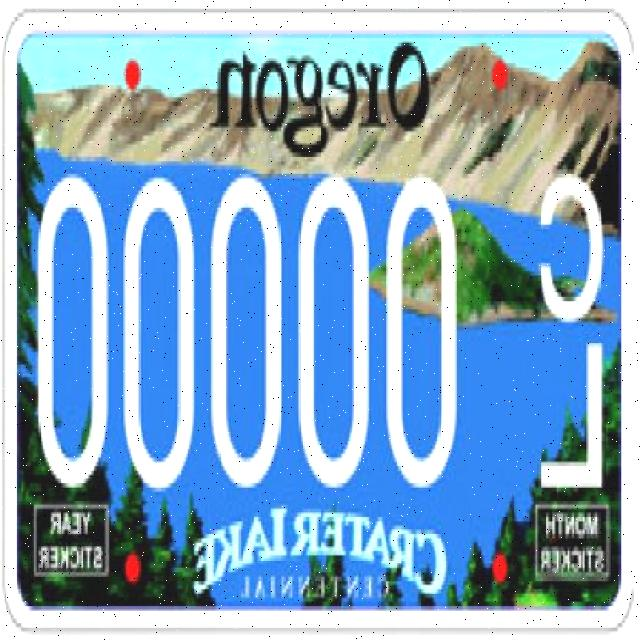licenseplate: (37, 159, 474, 493)
